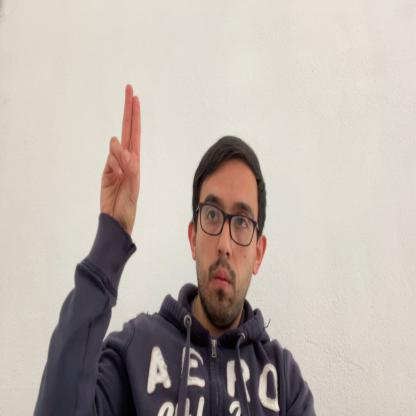U: (100, 81, 140, 228)
